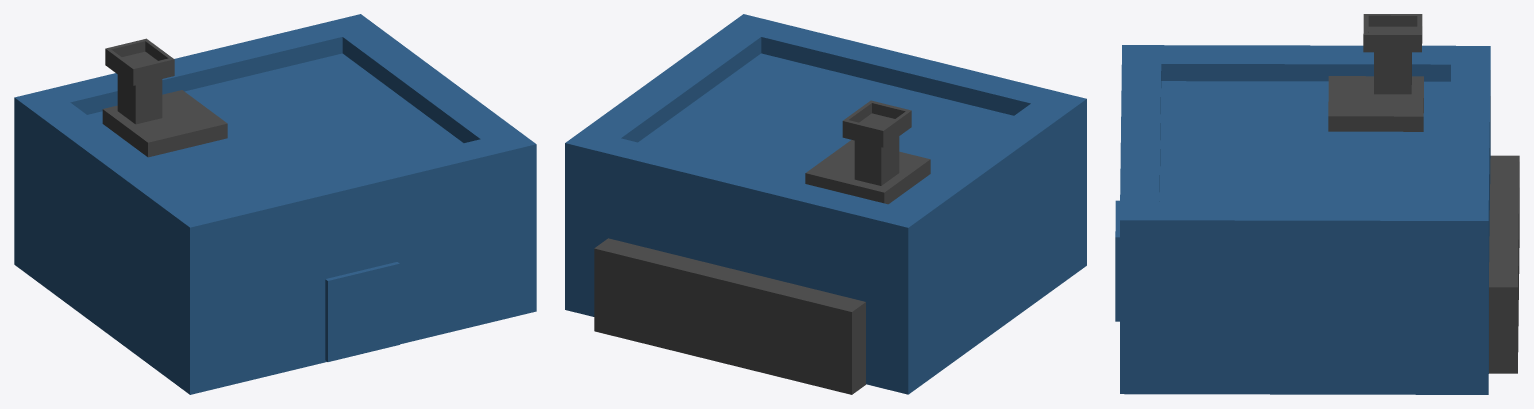
File: factory.fbx
3 renders of one model, left to right at view 1: azimuth 30°, elevation 25°; view 2: azimuth 150°, elevation 25°; view 3: azimuth 270°, elevation 25°, orthographic. The views are drawn at different scales.
Visible parts, largest first — view 1: Cube.009; view 2: Cube.009; view 3: Cube.009.
Part boxes in pixels (x1,y1,x2,y2): Cube.009: (14, 14, 536, 394); Cube.009: (565, 14, 1086, 394); Cube.009: (1115, 14, 1519, 394).
Bounding box in the file's own units: 305 × 190 × 296.
